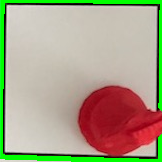Red Knight: (75, 81, 162, 159)
